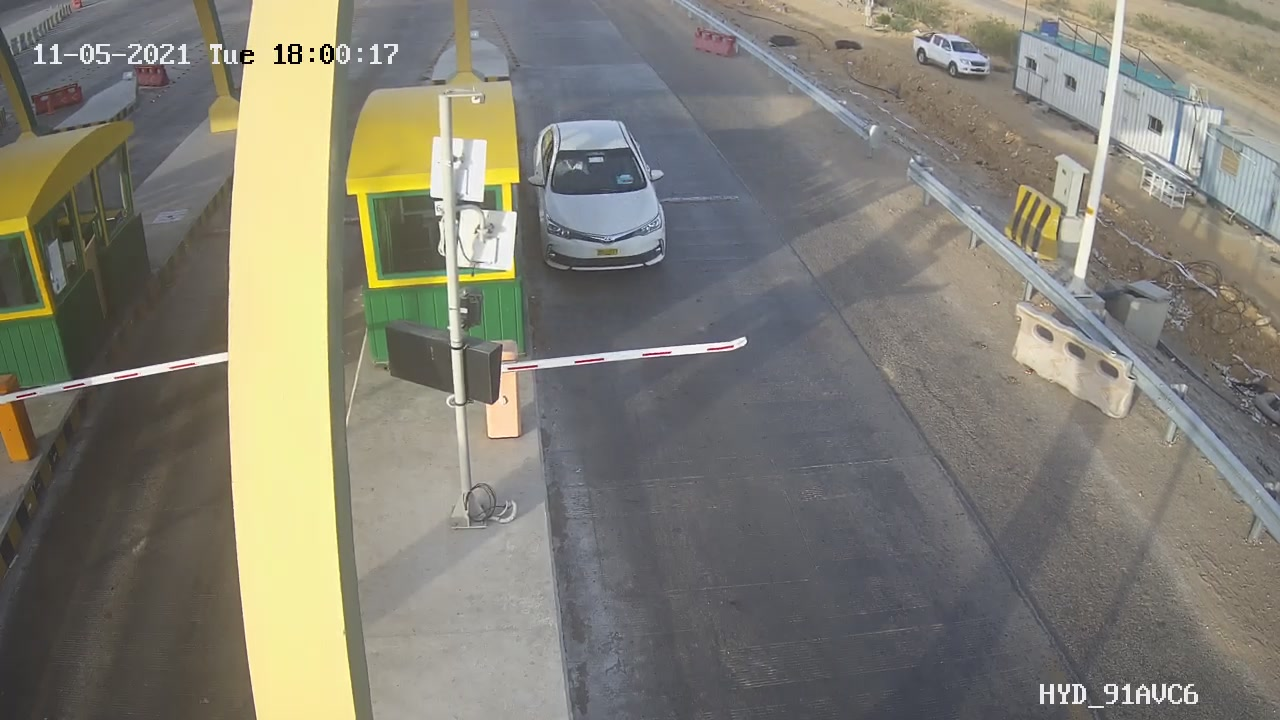F1: (520, 116, 681, 282)
